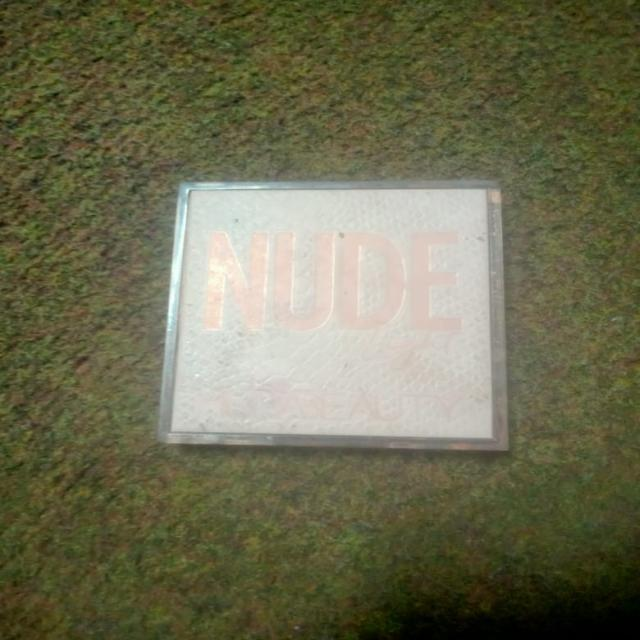highlighter: (162, 179, 503, 459)
